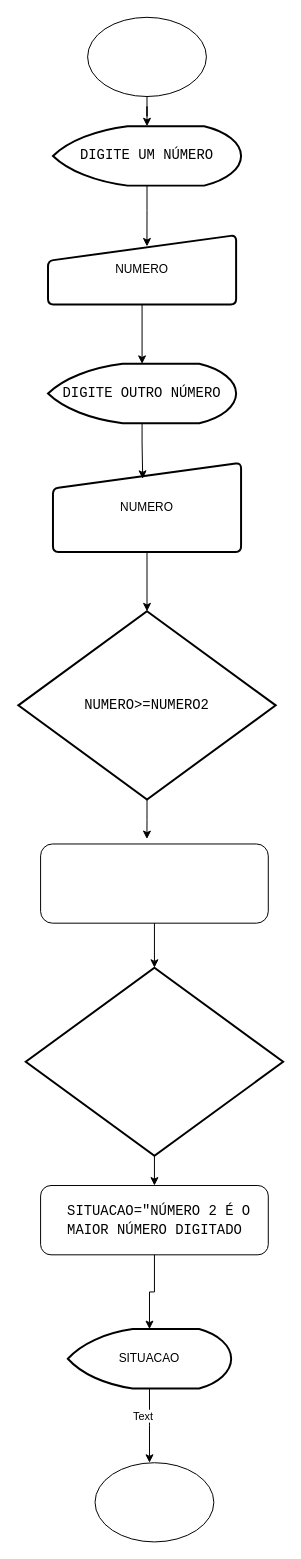
This 301x1559 diagram has some shape labels left out. The centre of each missing label's shape, as x and y in pixels:
fim: the point at 154,1502
inicio: the point at 146,56
NUMERO2<=NUMERO: the point at 154,1061
SITUACAO="NÚMERO 1 É O MAIOR NÚMERO DIGITADO ": the point at 154,883
